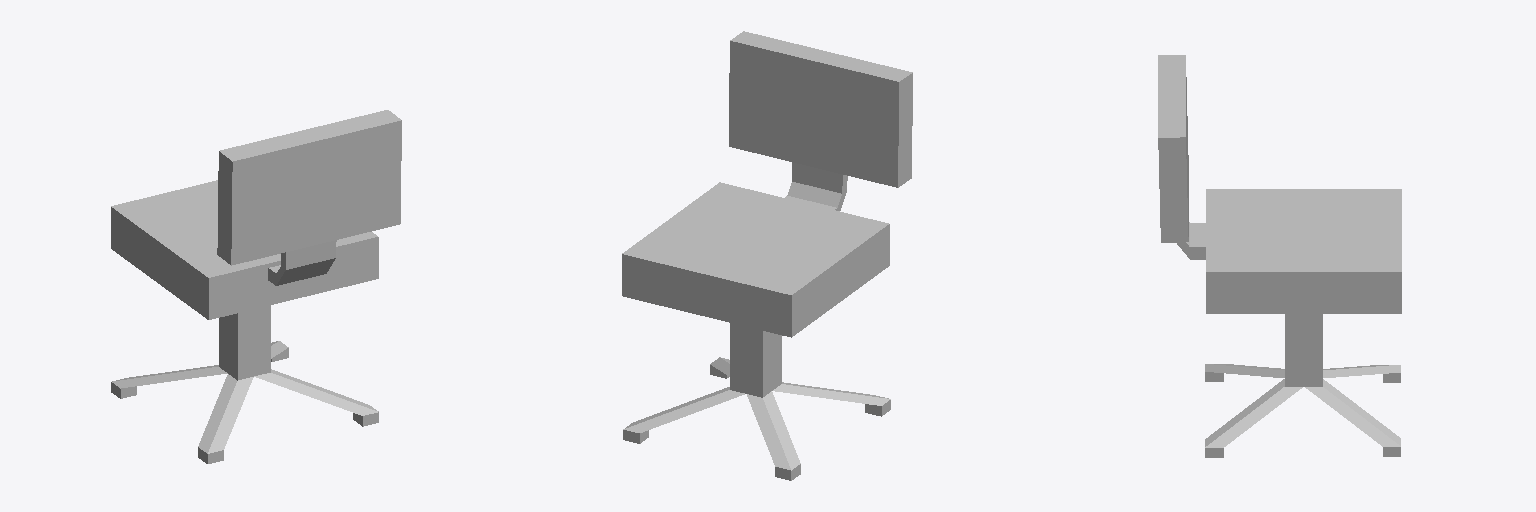
Rendered from Armchair.obj.
The picture shows the model from 3 angles: view 1: azimuth 30°, elevation 25°; view 2: azimuth 150°, elevation 25°; view 3: azimuth 270°, elevation 25°; orthographic projection.
Visible parts, largest first — view 1: Armchair; view 2: Armchair; view 3: Armchair.
Part boxes in pixels (x1,y1,x2,y2): Armchair: (111,110,401,463); Armchair: (622,31,912,480); Armchair: (1158,55,1401,457).
Bounding box in the file's own units: 0.8084 × 1.44 × 0.9934.